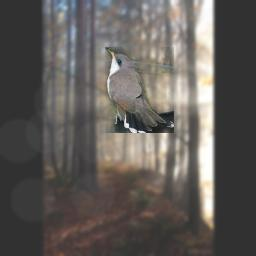Cuckoo: (105, 47, 174, 133)
